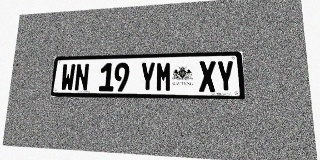1: (99, 63, 115, 91)
9: (114, 62, 130, 91)
M: (156, 62, 172, 92)
N: (74, 63, 90, 91)
W: (60, 64, 76, 91)
X: (199, 61, 216, 92)
Y: (216, 60, 235, 92), (139, 62, 156, 92)
